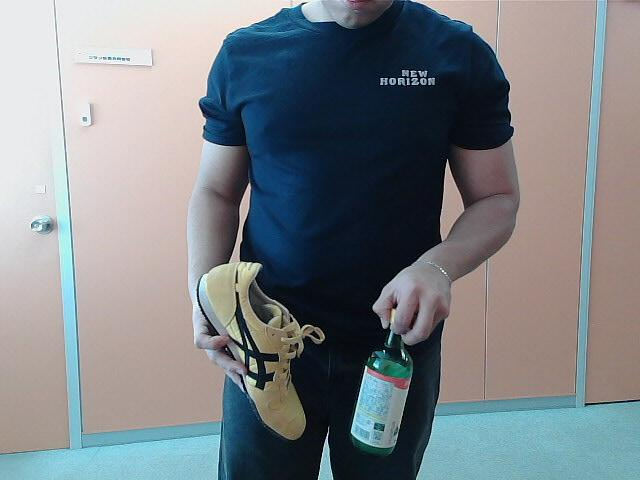Lemon_sapporo: (349, 305, 420, 456)
Shoes: (196, 260, 320, 450)
